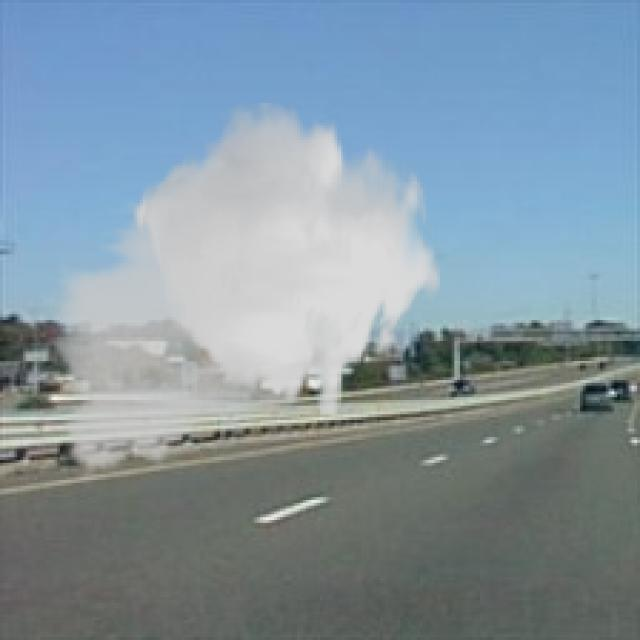Smoke: (40, 102, 443, 488)
